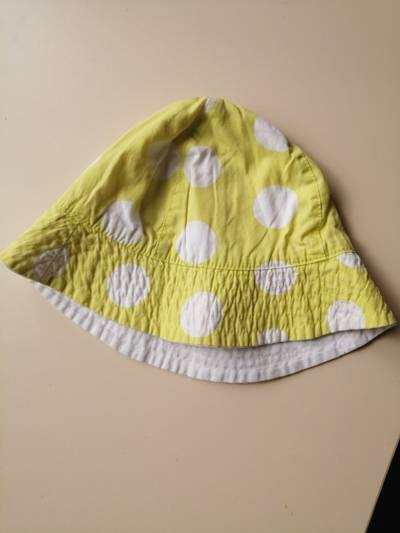Hat: (25, 103, 390, 367)
